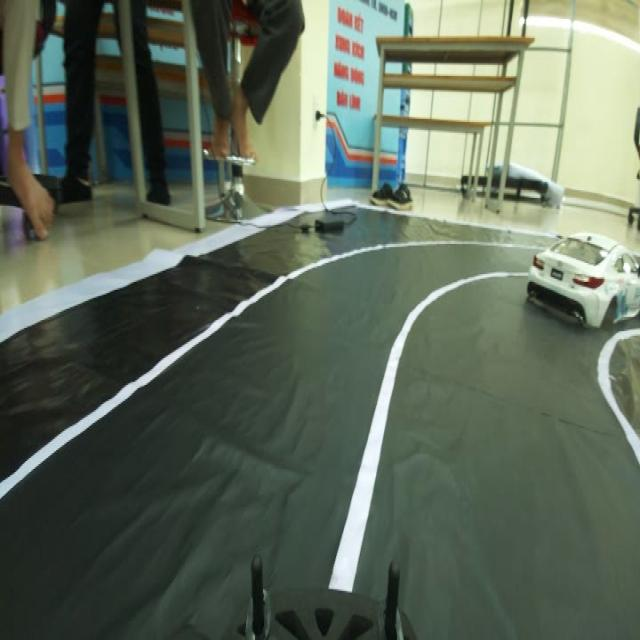car: (529, 215, 640, 336)
